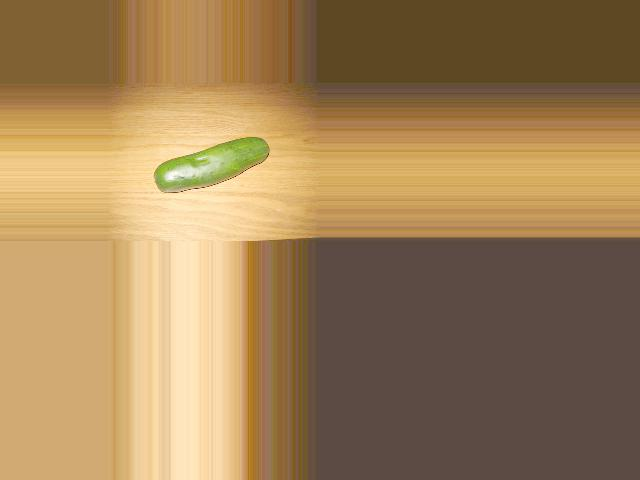cucumber: (155, 137, 270, 193)
